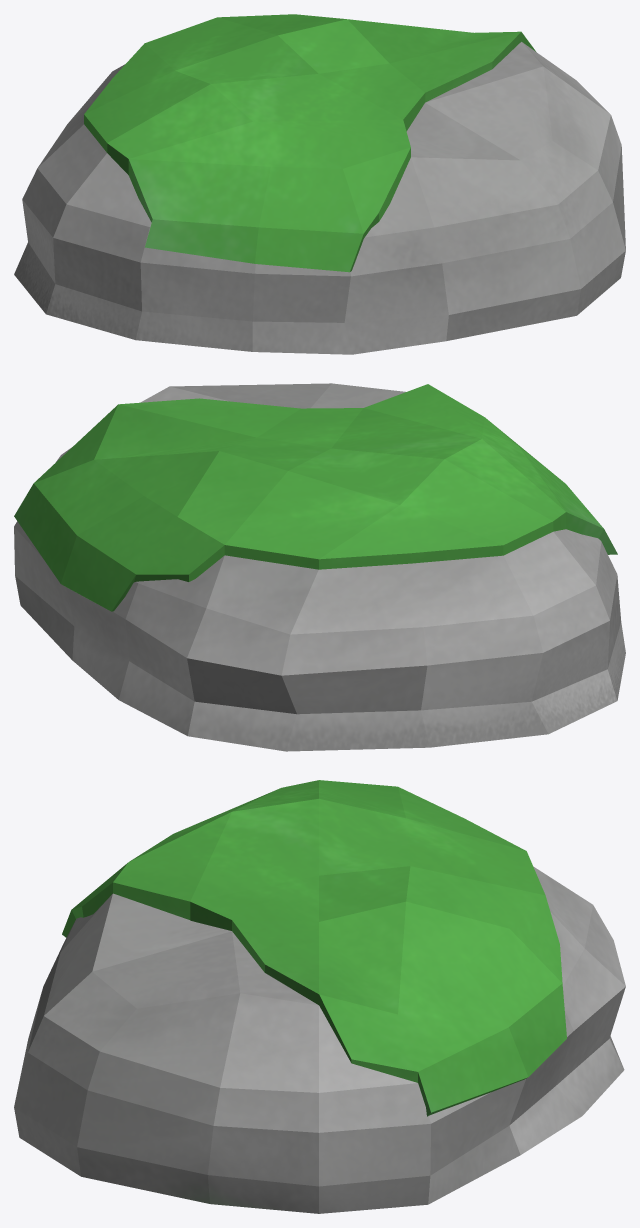
File: RockAl.fbx
The picture shows the model from 3 angles, top to bottom: view 1: azimuth 30°, elevation 25°; view 2: azimuth 150°, elevation 25°; view 3: azimuth 270°, elevation 25°; orthographic projection. The views are drawn at different scales.
Parts seen in each view (by area): view 1: RockAlsgea; view 2: RockAlsgea; view 3: RockAlsgea.
Part boxes in pixels (<box>): RockAlsgea: <box>14,14,625,354</box>; RockAlsgea: <box>14,383,625,751</box>; RockAlsgea: <box>14,780,625,1213</box>.
Size of the model in its own units: 3.39 by 1.13 by 2.96.
Materials: 1 (1 with a texture image).
